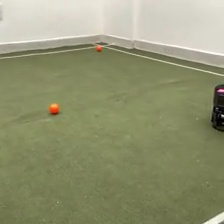ball: (49, 101, 60, 114), (95, 43, 103, 51)
robot: (210, 82, 224, 133)
